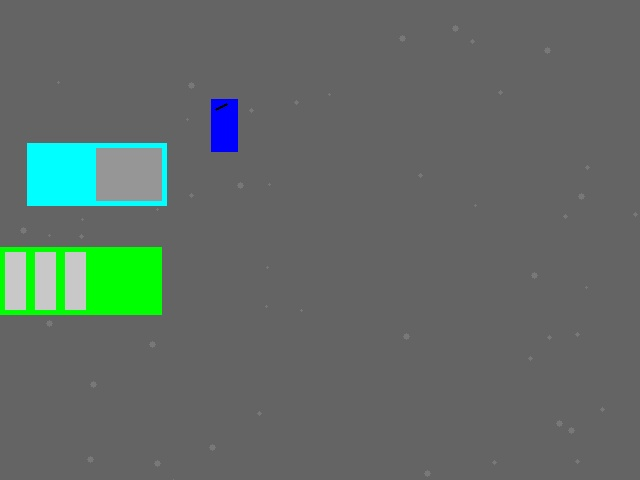bus: (0, 247, 161, 314)
motorcycle: (211, 99, 237, 151)
truck: (27, 143, 166, 205)
